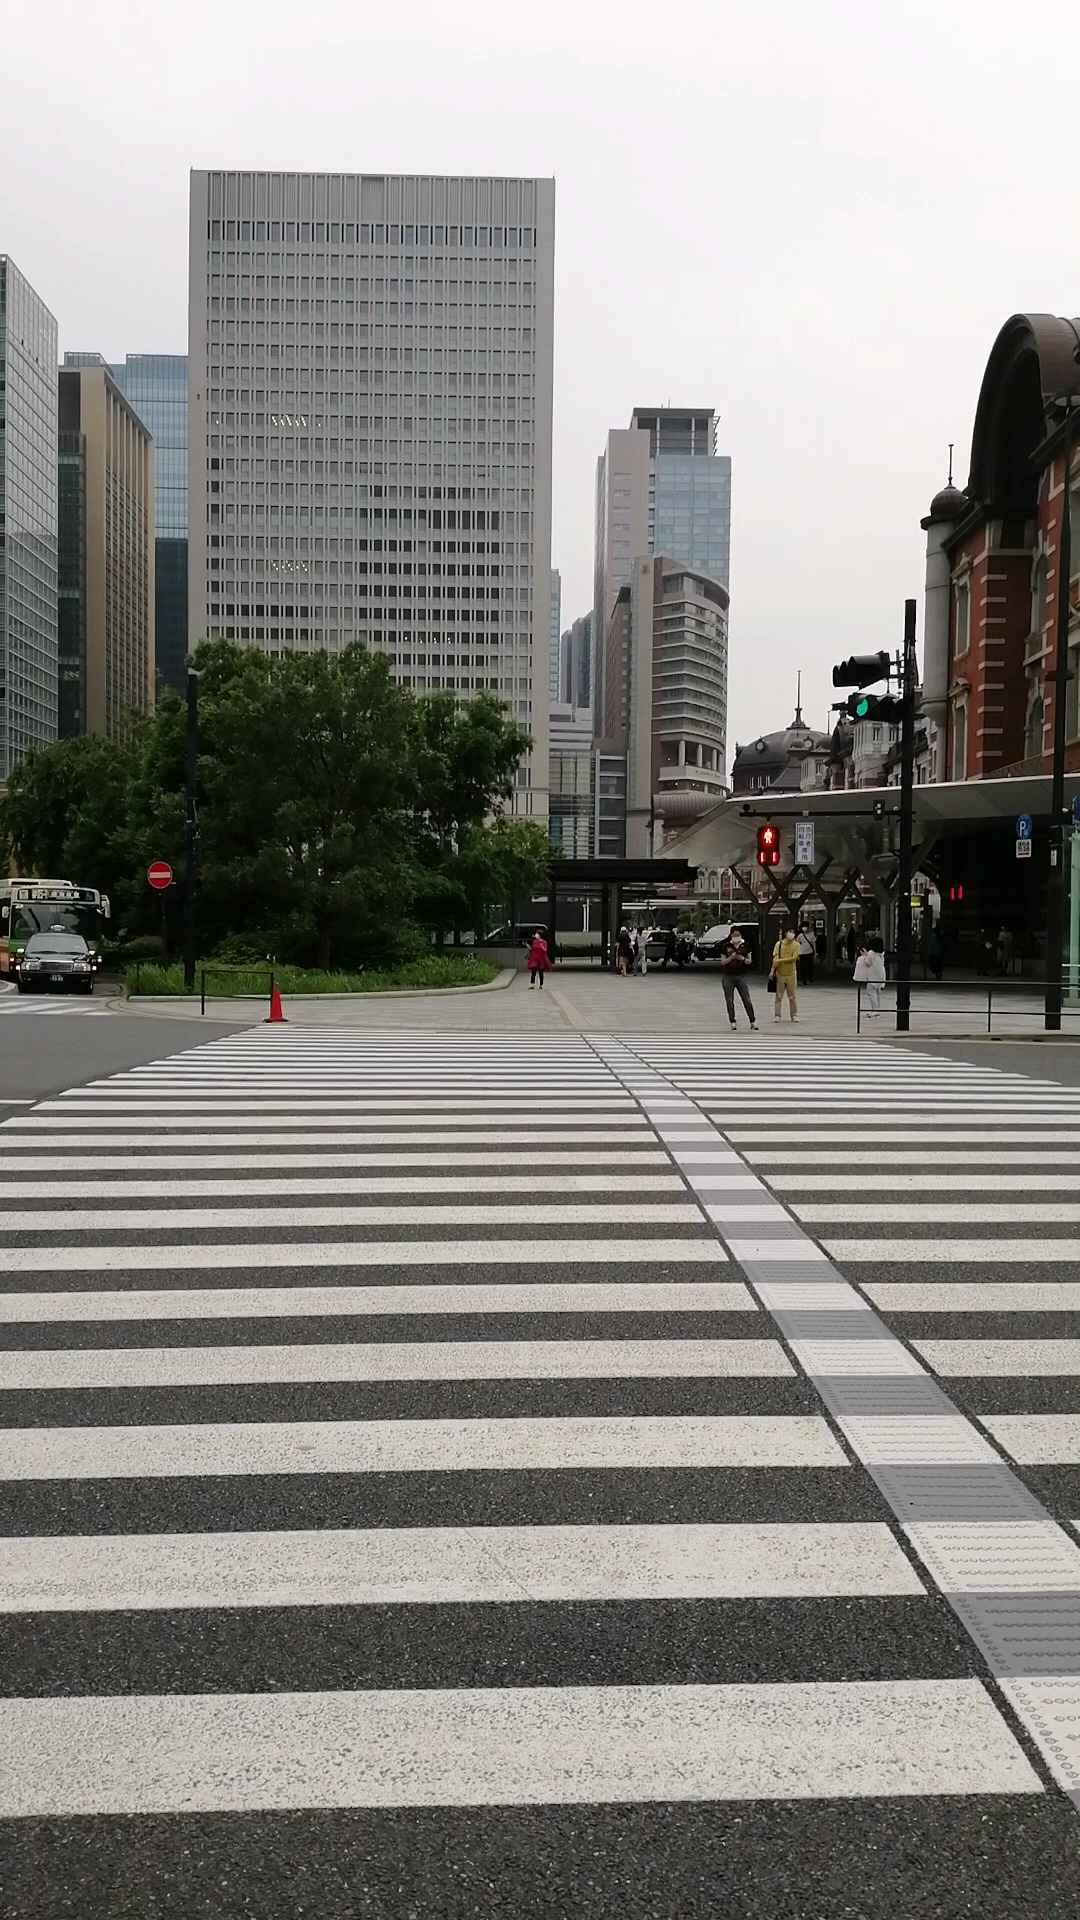red: (754, 823, 781, 868)
